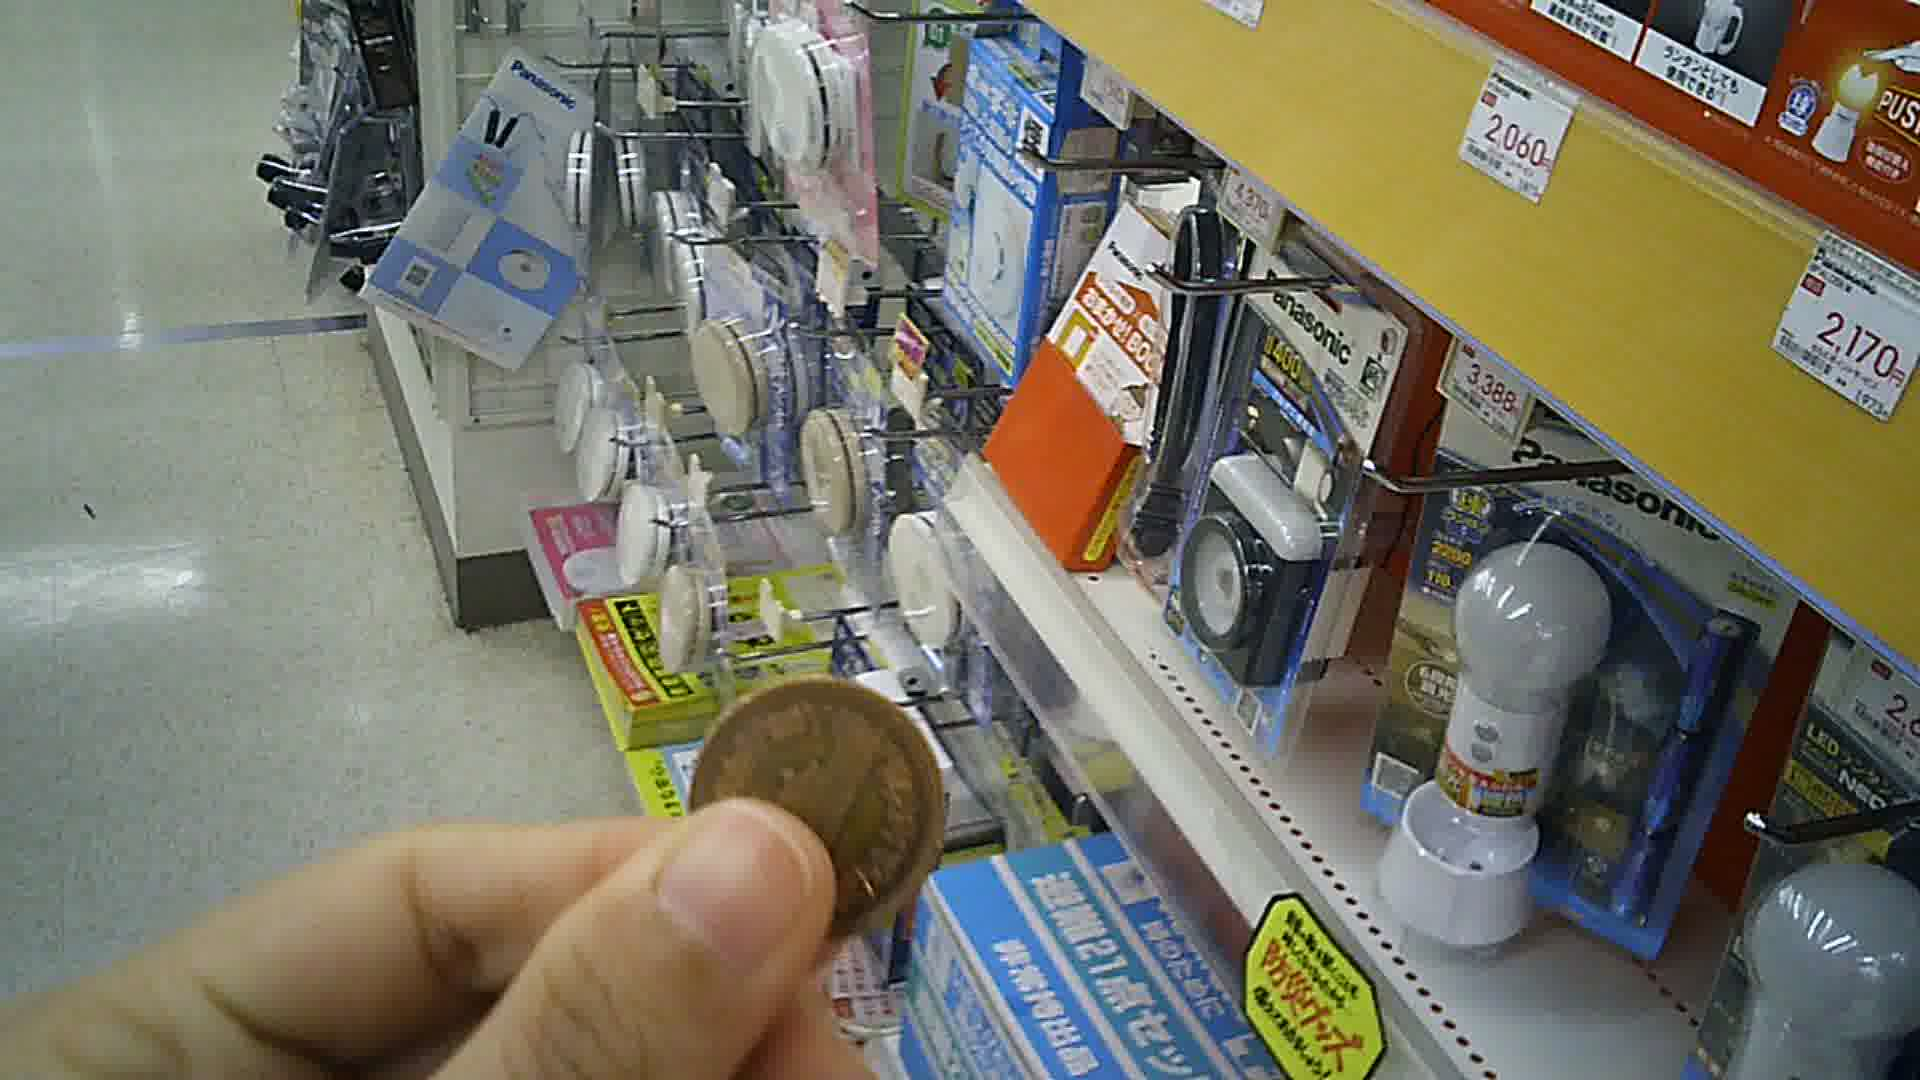10 Yen: (682, 671, 952, 936)
